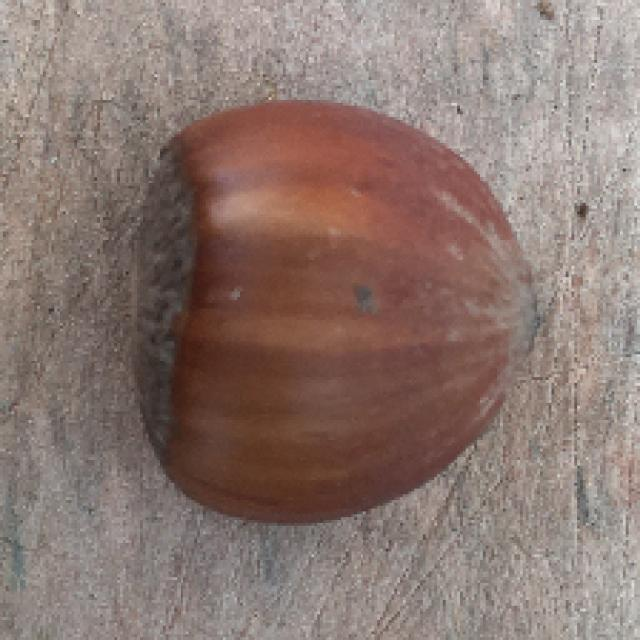DamagedHazelnut: (133, 103, 544, 530)
